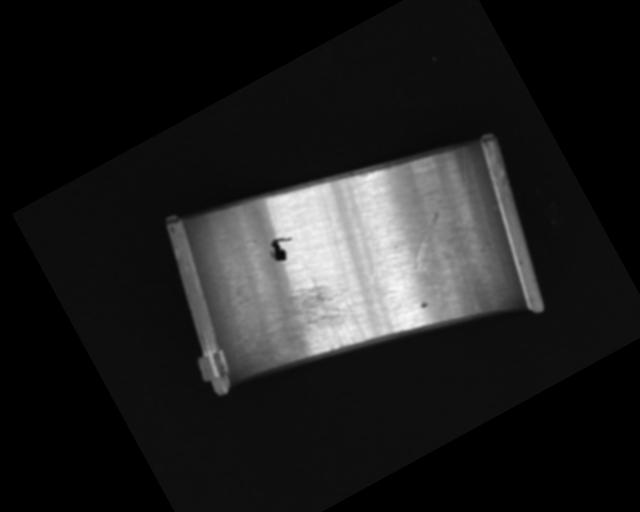blot: (264, 231, 300, 265)
bruise: (418, 298, 431, 310)
nick: (319, 172, 405, 285), (427, 144, 502, 234), (396, 211, 457, 271), (415, 261, 449, 310)
scratch: (243, 264, 377, 387)
